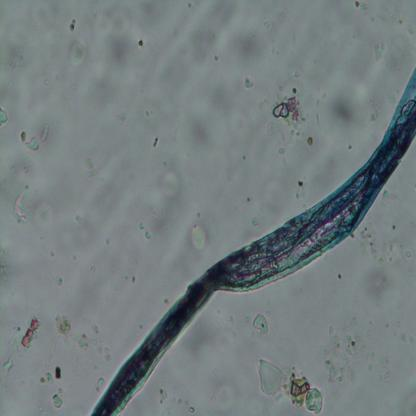Background material: (146, 162, 182, 238), (101, 22, 144, 80), (318, 78, 360, 137), (226, 20, 269, 67), (354, 268, 401, 307), (270, 84, 305, 134), (180, 100, 210, 157), (287, 372, 325, 414), (324, 336, 356, 385), (79, 144, 119, 181), (34, 197, 63, 247), (359, 224, 391, 269), (256, 356, 286, 399), (76, 323, 112, 356), (10, 152, 42, 186), (20, 314, 42, 350), (189, 218, 209, 256), (67, 42, 87, 68), (13, 190, 29, 221), (252, 310, 270, 337), (372, 36, 389, 63), (55, 312, 73, 336), (366, 96, 380, 124), (19, 133, 39, 152), (106, 109, 128, 126), (291, 173, 307, 196), (138, 223, 151, 242), (2, 355, 14, 374), (51, 392, 65, 408), (0, 104, 9, 127), (242, 76, 256, 90), (40, 122, 48, 144), (354, 1, 368, 12), (250, 214, 260, 228), (68, 18, 77, 32), (304, 135, 314, 147), (55, 366, 63, 380)
Cotton: (90, 62, 412, 414)
